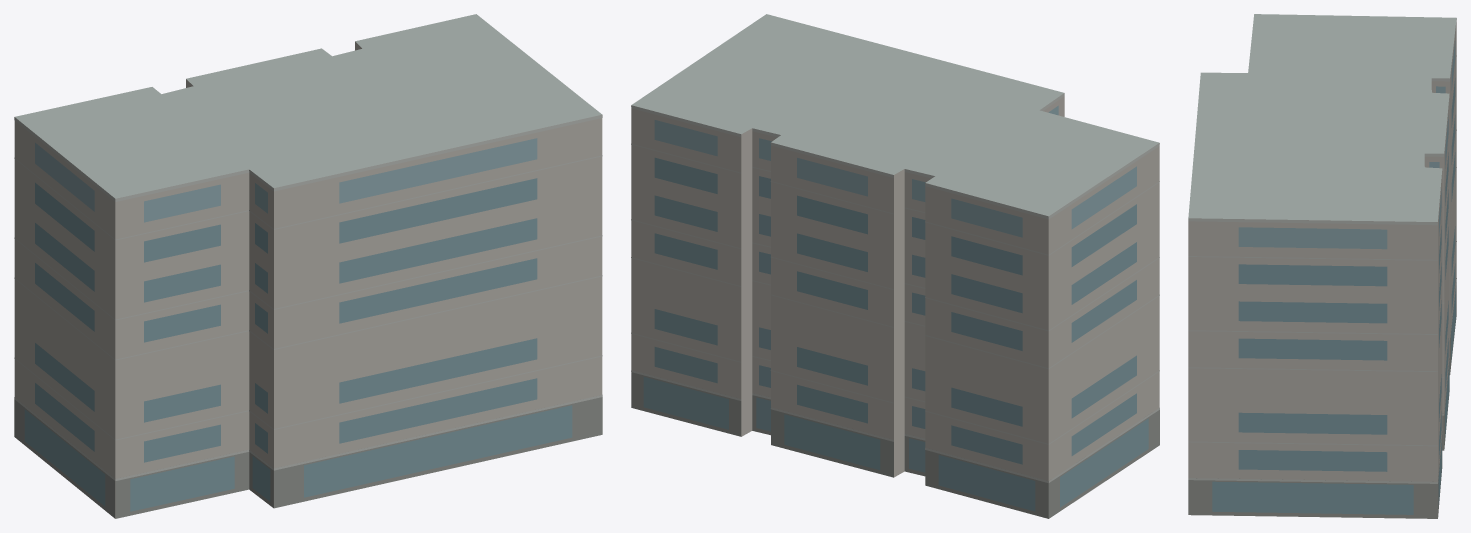
Rendered from survey-upis-32663193.glb.
3 renders of one model, left to right at view 1: azimuth 30°, elevation 25°; view 2: azimuth 150°, elevation 25°; view 3: azimuth 270°, elevation 25°, orthographic. The views are drawn at different scales.
Parts seen in each view (by area): view 1: survey-upis-32663193.tmp; view 2: survey-upis-32663193.tmp; view 3: survey-upis-32663193.tmp.
Part boxes in pixels (<box>): survey-upis-32663193.tmp: <box>14,14,602,518</box>; survey-upis-32663193.tmp: <box>631,14,1159,518</box>; survey-upis-32663193.tmp: <box>1188,14,1456,518</box>.
Bounding box in the file's own units: 35.07 × 23.3 × 19.12.
